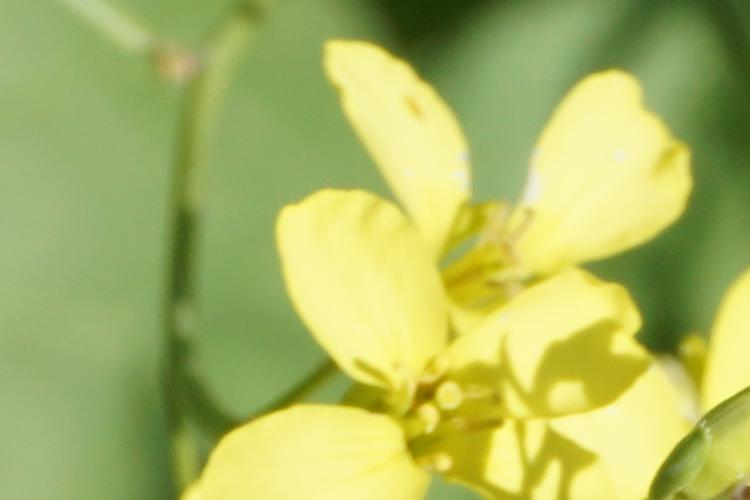yellow: (172, 181, 666, 500), (311, 41, 685, 309)
